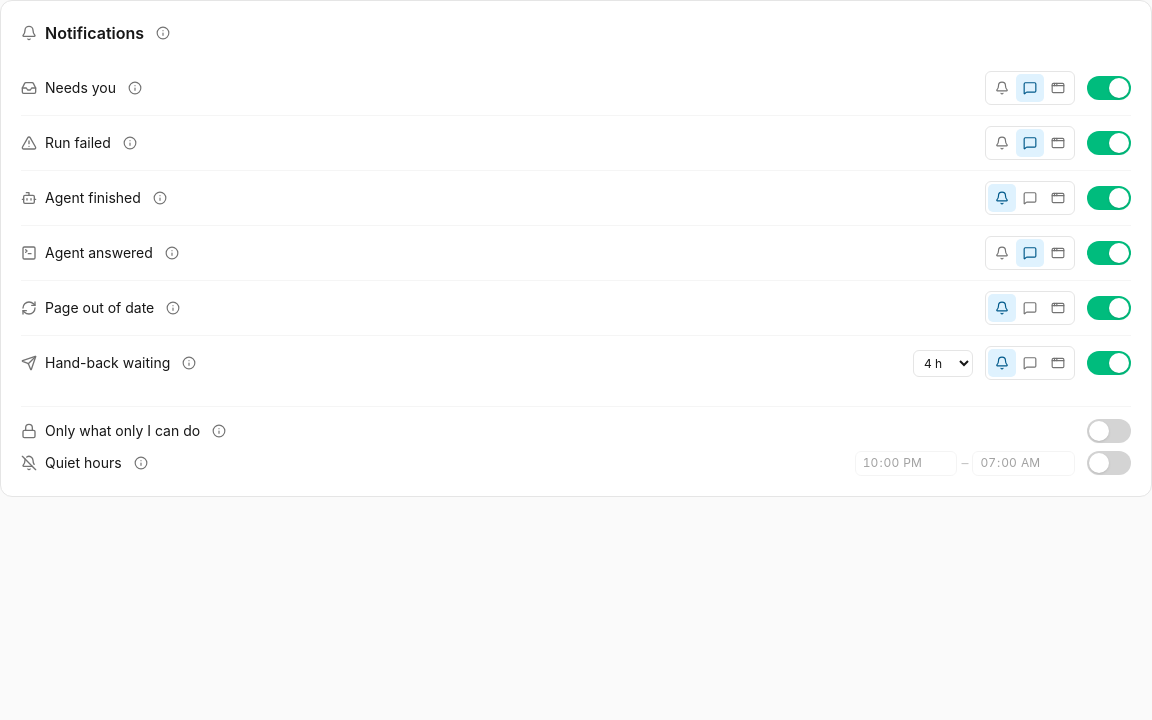
it: settings form › asks the browser only when a kind is set to browser notifications
Expected: the list named "Kinds of notification" is shown, left=21, top=61, right=1131, bottom=390
Click the radio button named "Browser notification" in the row of "Needs you" at [1058, 88], box left=1044, top=74, right=1072, bottom=102
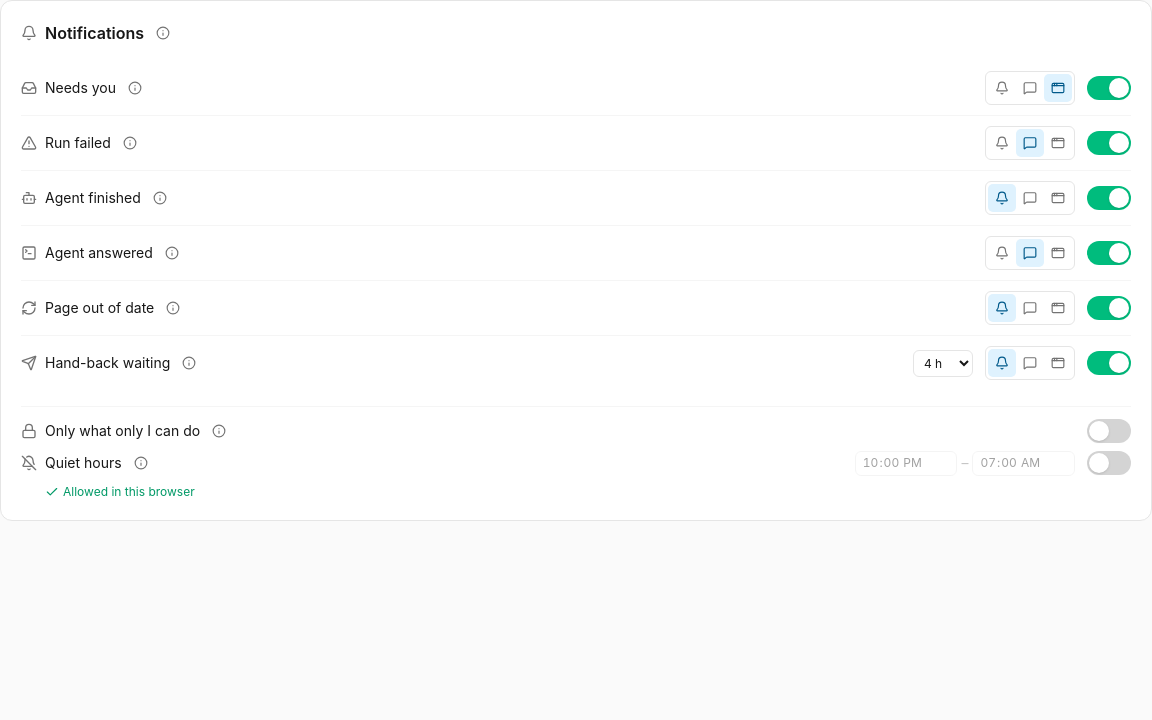
Expected: the text "Allowed in this browser" is shown, left=45, top=484, right=195, bottom=500
